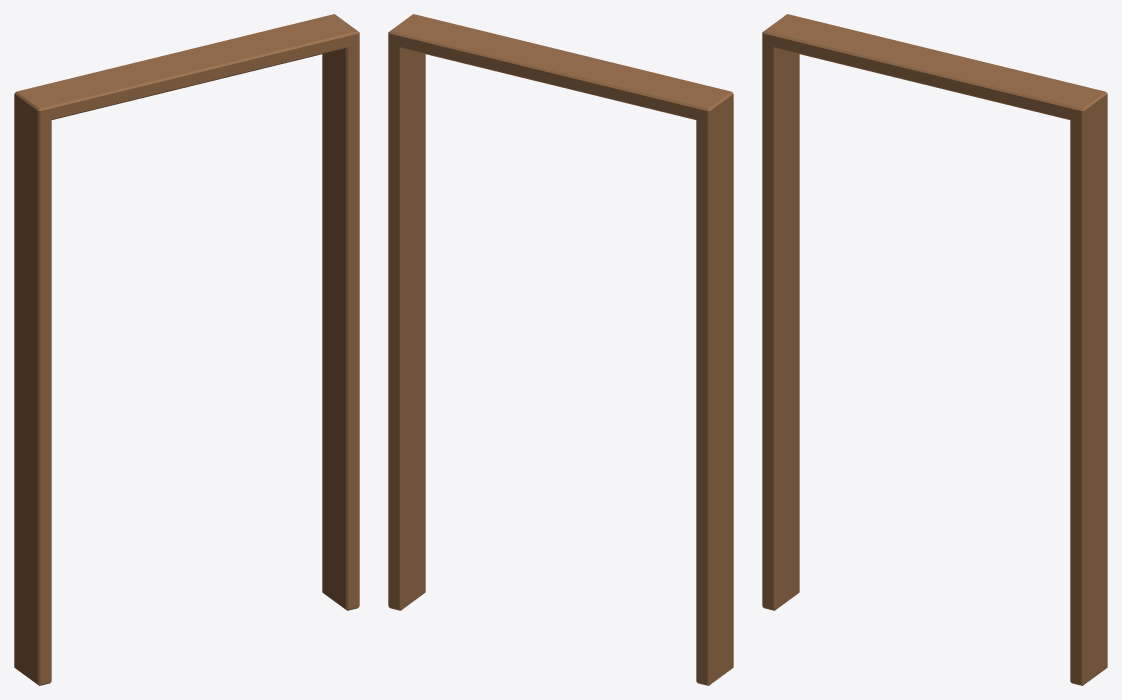
File: Door_Frame.fbx
3 renders of one model, left to right at view 1: azimuth 30°, elevation 25°; view 2: azimuth 150°, elevation 25°; view 3: azimuth 330°, elevation 25°, orthographic.
Visible parts, largest first — view 1: Door_Frame; view 2: Door_Frame; view 3: Door_Frame.
Part boxes in pixels (<box>): Door_Frame: <box>14,14,359,685</box>; Door_Frame: <box>388,14,733,685</box>; Door_Frame: <box>762,14,1107,685</box>.
Bounding box in the file's own units: 280 × 480 × 38.
